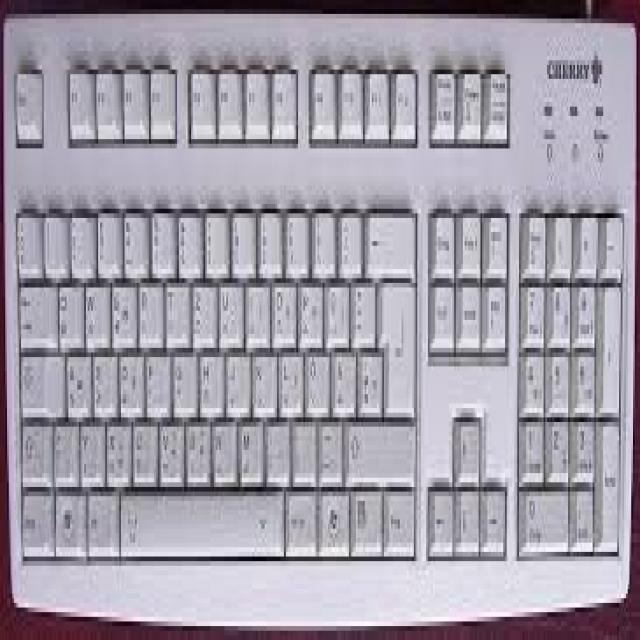others: (5, 14, 633, 626)
